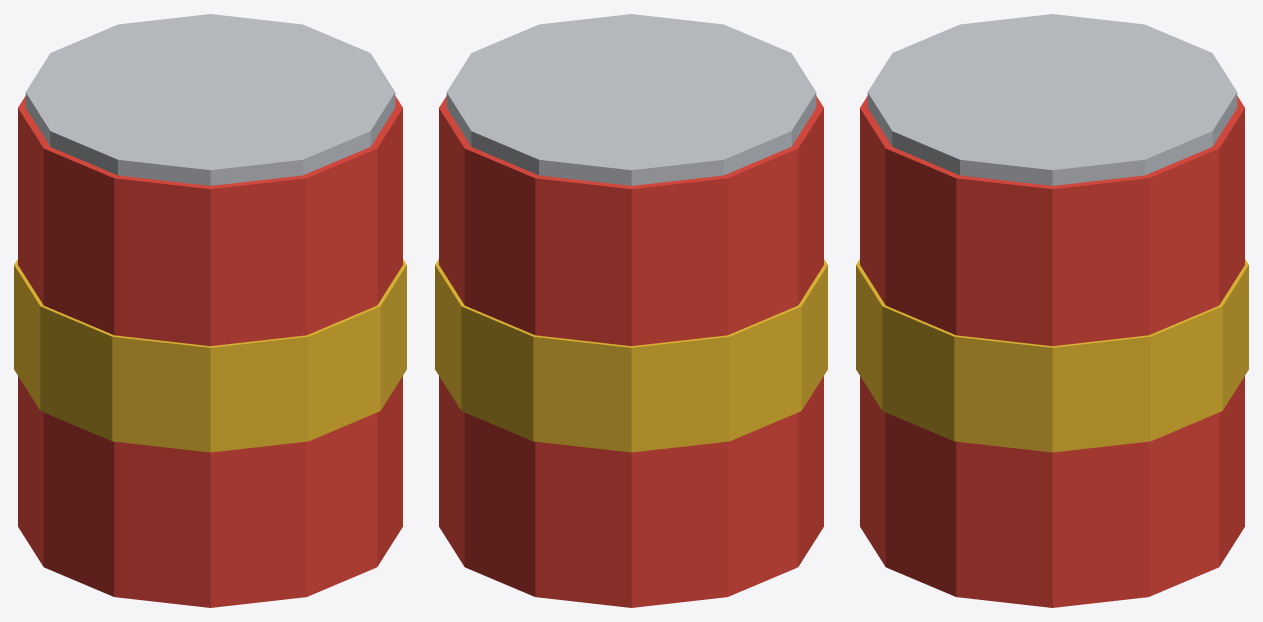
Rendered from food_can.glb.
3 renders of one model, left to right at view 1: azimuth 30°, elevation 25°; view 2: azimuth 150°, elevation 25°; view 3: azimuth 270°, elevation 25°, orthographic.
Parts seen in each view (by area): view 1: can_can_label, top_can_tin, band_can_band; view 2: can_can_label, top_can_tin, band_can_band; view 3: can_can_label, top_can_tin, band_can_band.
Boxes of the visible parts, bbox=[...] form: can_can_label: bbox=[18, 96, 402, 607]; top_can_tin: bbox=[25, 14, 395, 185]; band_can_band: bbox=[14, 259, 406, 452]; can_can_label: bbox=[439, 96, 823, 607]; top_can_tin: bbox=[446, 14, 816, 185]; band_can_band: bbox=[435, 259, 827, 452]; can_can_label: bbox=[860, 96, 1244, 607]; top_can_tin: bbox=[867, 14, 1237, 185]; band_can_band: bbox=[856, 259, 1248, 452].
Size of the model in its own units: 0.102 by 0.1245 by 0.102.
